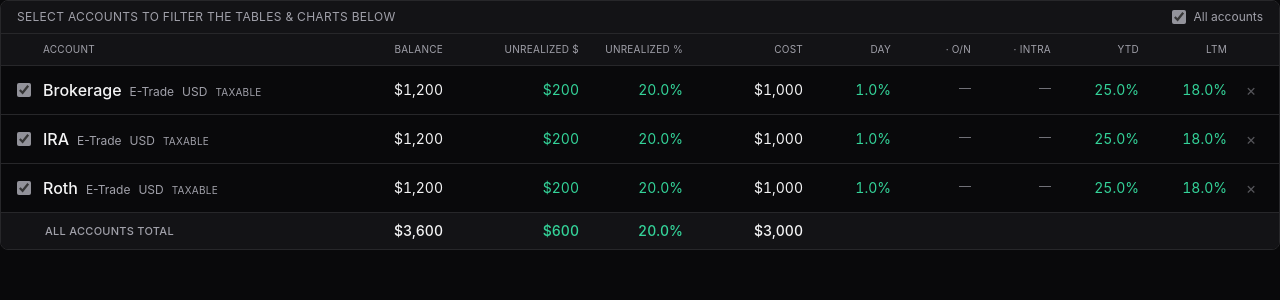
it: delete (deletable mode — the Overview, metron-ops#77) › a failed delete surfaces the error and leaves the selection alone
Click the button named "Delete Brokerage" at {"x": 1251, "y": 90}, box x1=1239 y1=78 x2=1263 y2=102
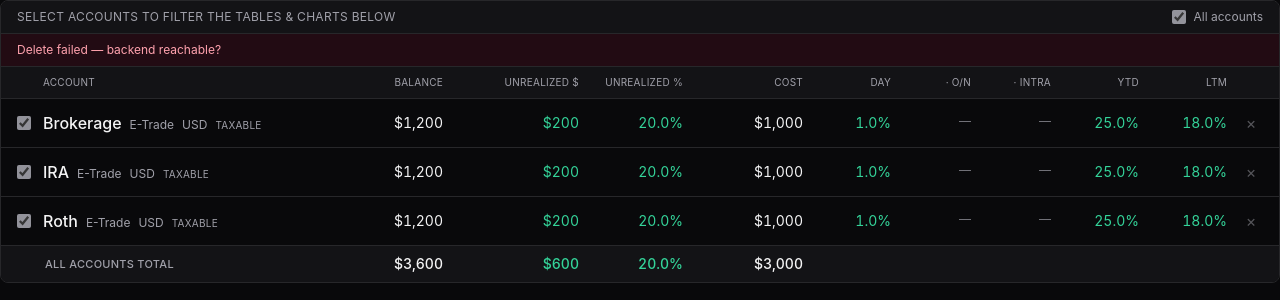
Expected: the text "Delete failed — backend reachable?" is shown, x1=1 y1=34 x2=1279 y2=67
